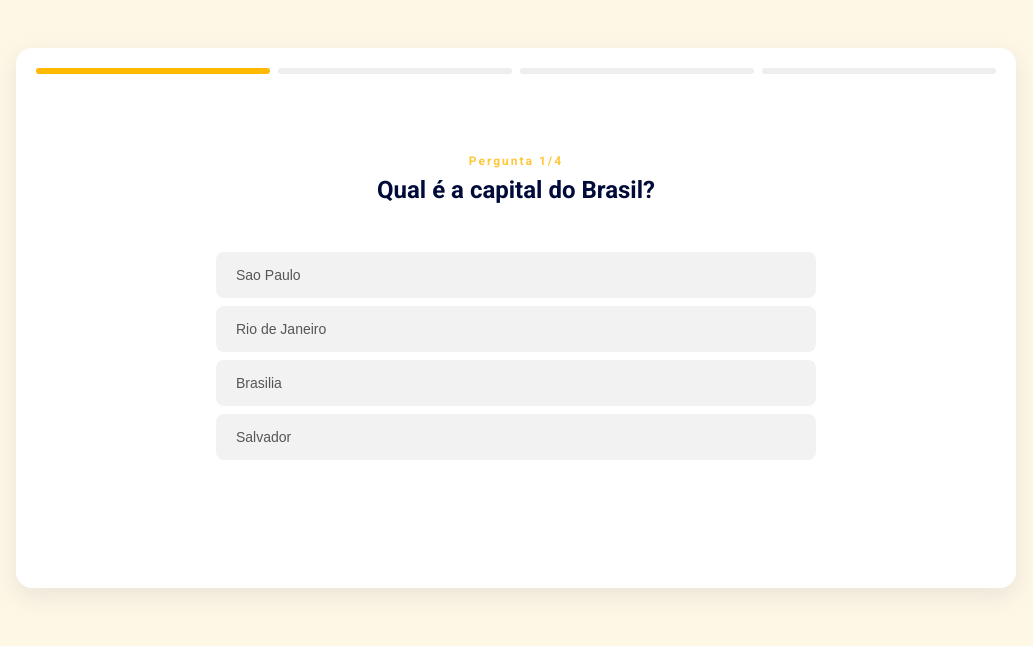
Quiz Component › should mark the quesiton as correct
Click the button "Brasilia".
click(259, 383)  # box [216, 360, 816, 406]
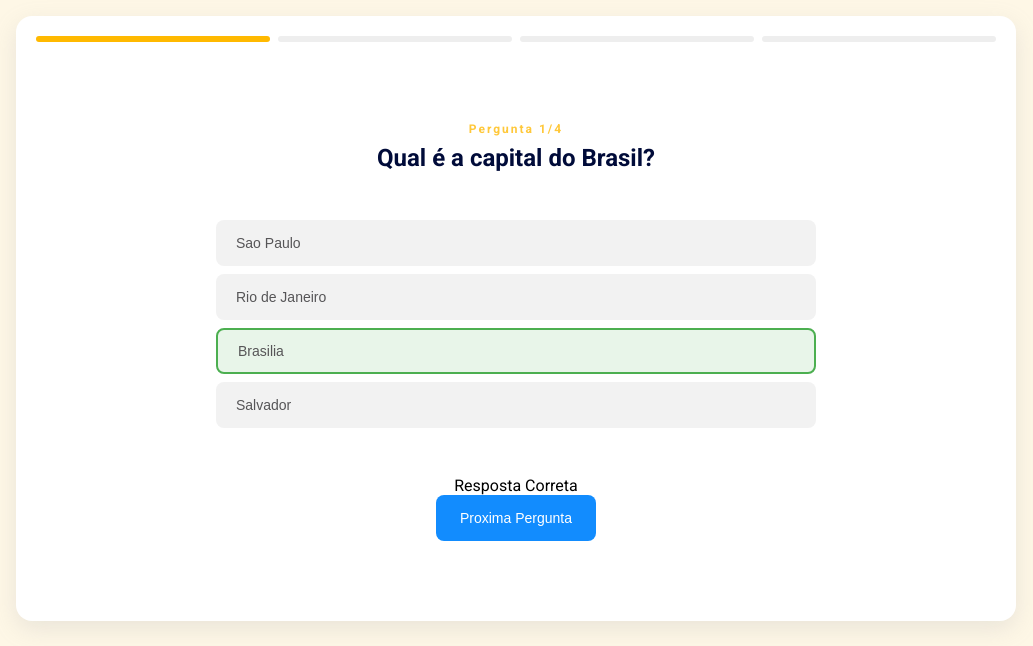
Expected: the text "Resposta Correta" is shown, [454, 476, 578, 494]
